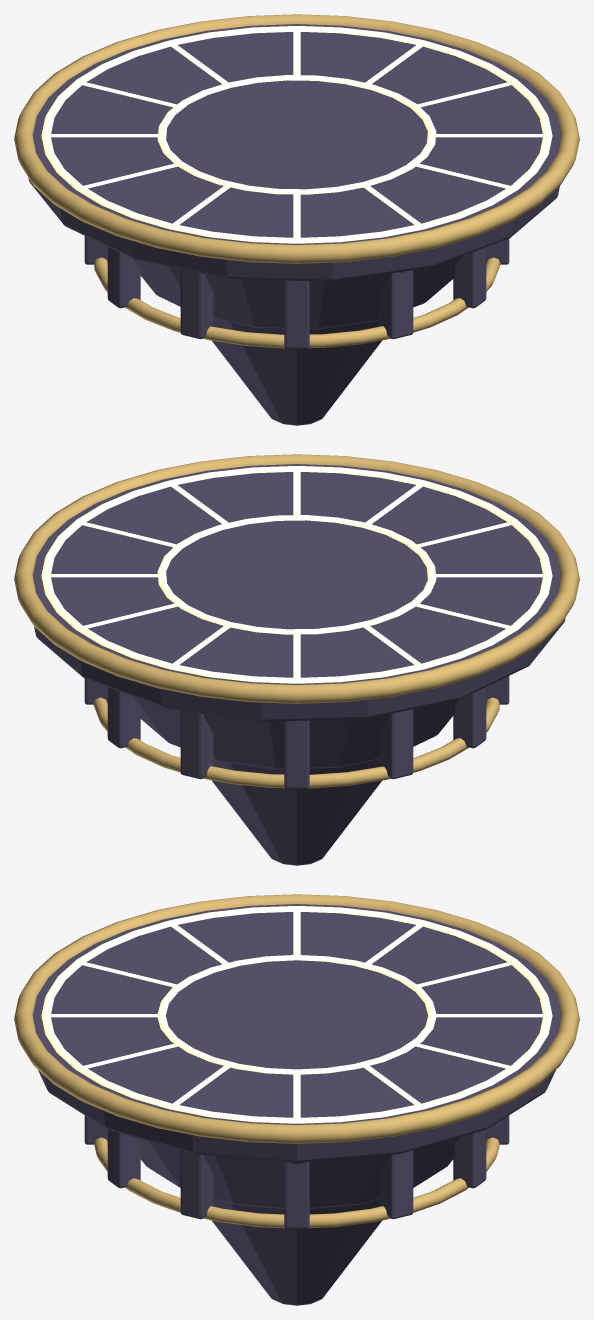
File: obsidian_dais.glb
3 views of the same model, one above another, from view 1: azimuth 30°, elevation 25°; view 2: azimuth 150°, elevation 25°; view 3: azimuth 270°, elevation 25° (orthographic).
Parts seen in each view (by area): view 1: DrumFlute_0, MidBronzeRing, InnerGold; view 2: DrumFlute_0, MidBronzeRing, InnerGold; view 3: DrumFlute_0, MidBronzeRing, InnerGold.
Boxes of the visible parts, left/top/right/bottom form: DrumFlute_0: left=28, top=24, right=561, bottom=425; MidBronzeRing: left=14, top=14, right=579, bottom=348; InnerGold: left=41, top=26, right=552, bottom=243; DrumFlute_0: left=32, top=464, right=565, bottom=865; MidBronzeRing: left=14, top=454, right=579, bottom=788; InnerGold: left=41, top=466, right=552, bottom=683; DrumFlute_0: left=32, top=904, right=561, bottom=1305; MidBronzeRing: left=14, top=894, right=579, bottom=1228; InnerGold: left=41, top=906, right=552, bottom=1123.
Bounding box in the file's own units: 6.18 × 3.44 × 6.18.
